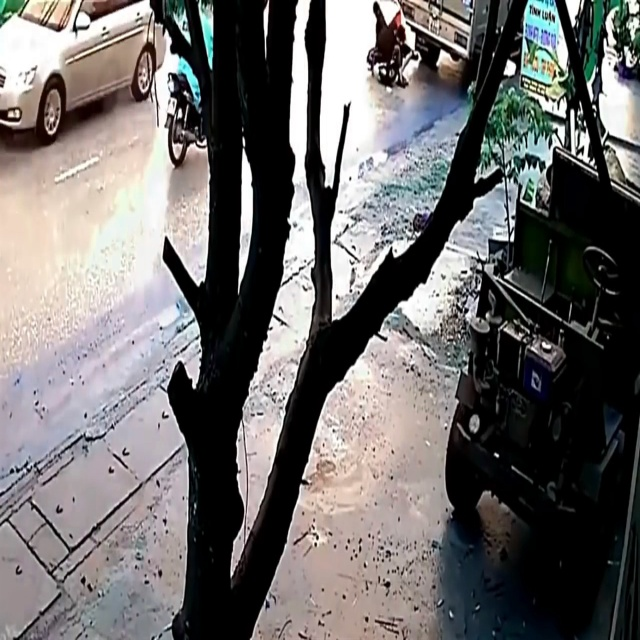acc: (343, 1, 455, 106)
